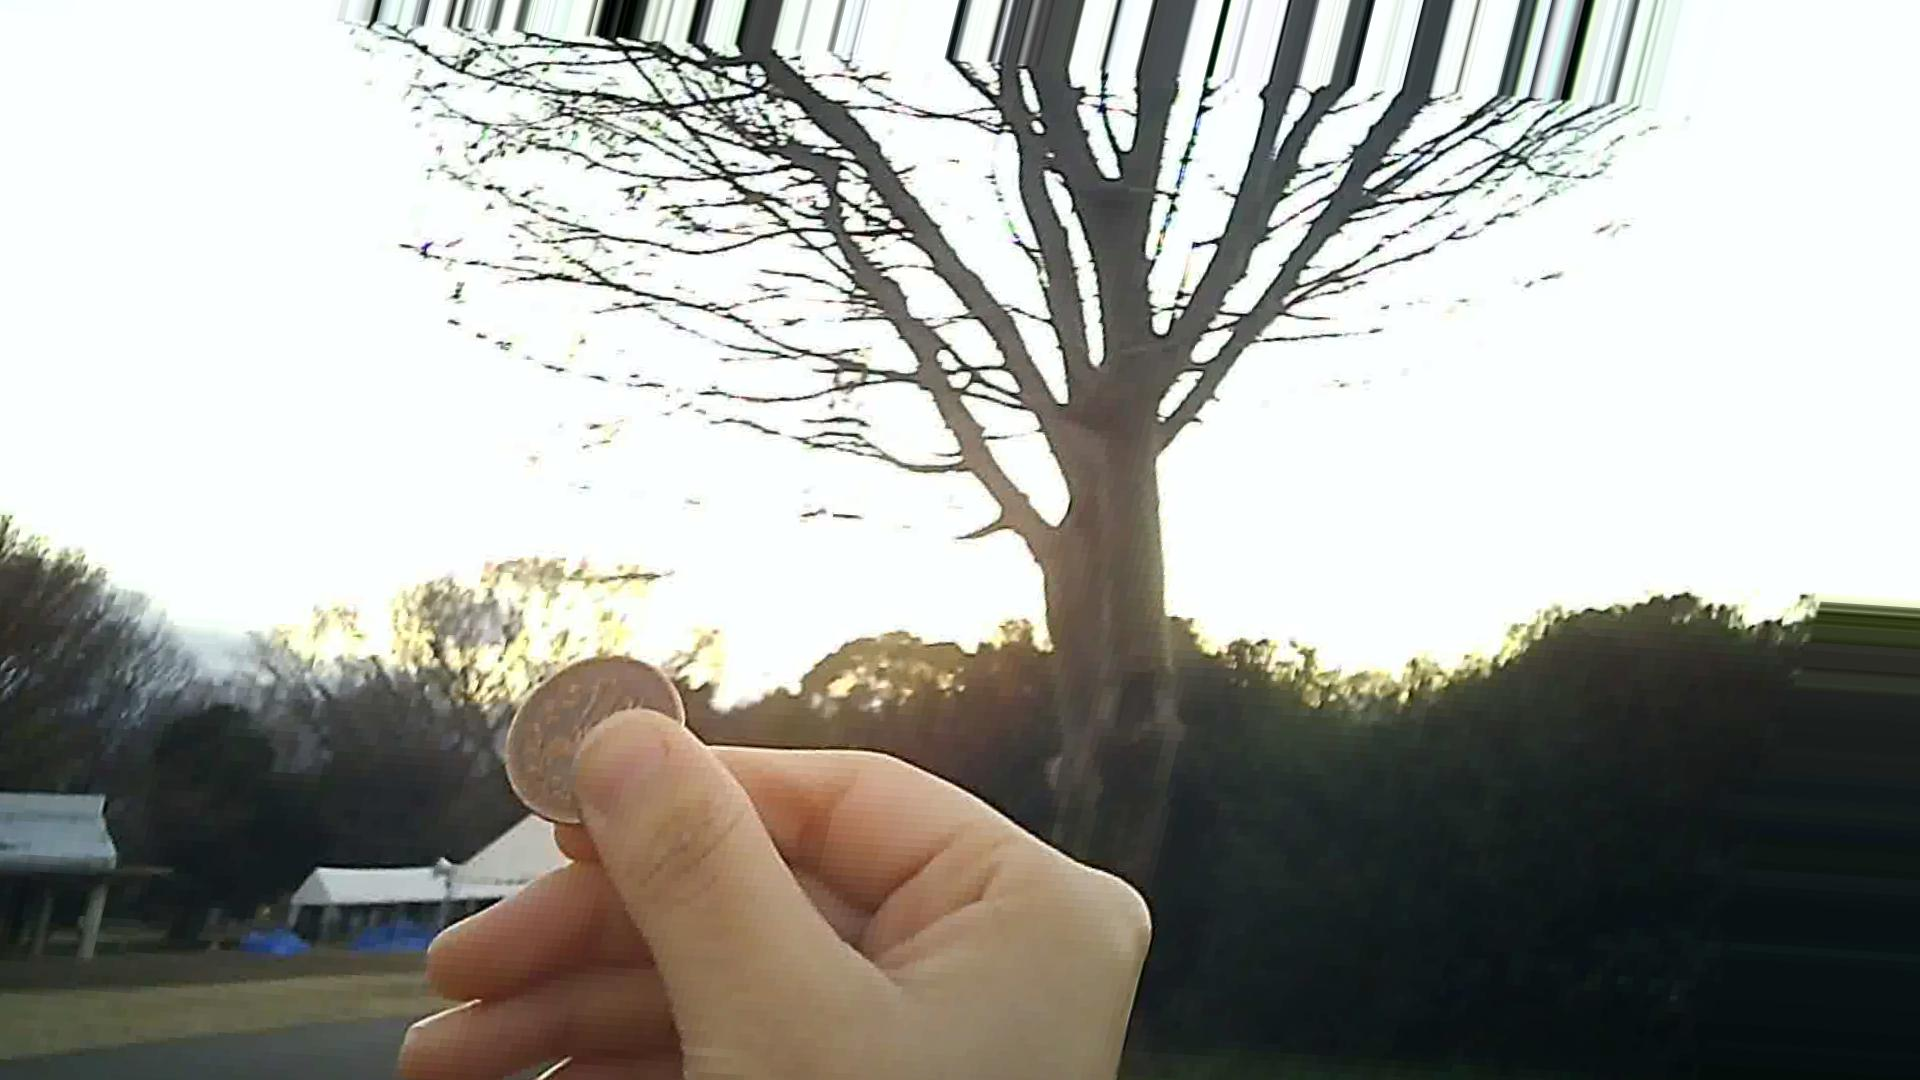10 Yen: (483, 662, 675, 837)
